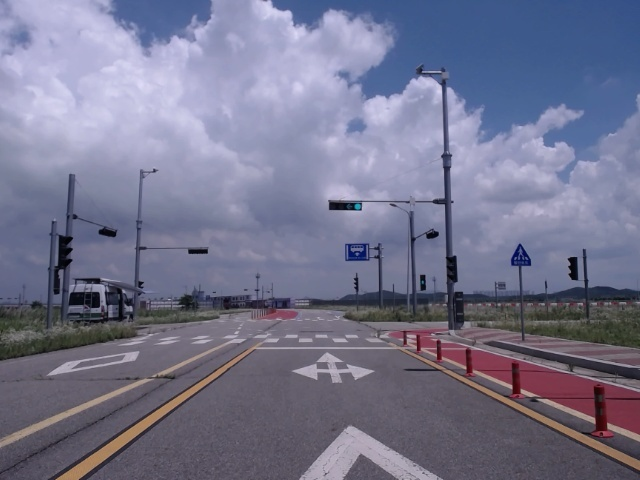all_green_4: (328, 202, 364, 211)
